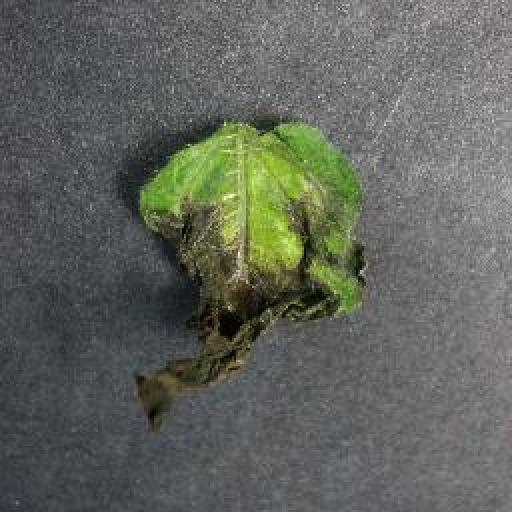disease_tomato: (134, 118, 372, 438)
